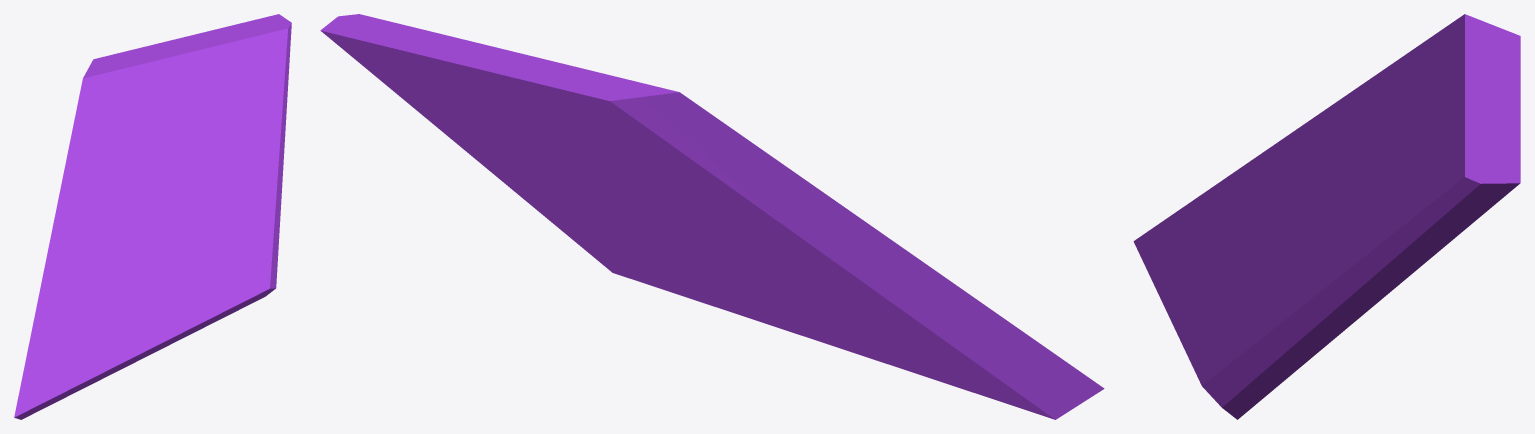
File: Window_97_0_chunks.fbx
3 views of the same model, side by side, from view 1: azimuth 30°, elevation 25°; view 2: azimuth 150°, elevation 25°; view 3: azimuth 270°, elevation 25° (orthographic). The views are drawn at different scales.
Parts seen in each view (by area): view 1: Window_97_0_0, Window_97_0_2, Window_97_0_5, Window_97_0_4, Window_97_0_6, Window_97_0_7, Window_97_0_8, Window_97_0_9; view 2: Window_97_0_0, Window_97_0_2, Window_97_0_1, Window_97_0_5, Window_97_0_7, Window_97_0_9, Window_97_0_6, Window_97_0_3; view 3: Window_97_0_0, Window_97_0_2, Window_97_0_5, Window_97_0_4, Window_97_0_9, Window_97_0_8, Window_97_0_6, Window_97_0_7.
Boxes of the visible parts, x1,y1,x2,y2 form: Window_97_0_0: [87, 14, 291, 187]; Window_97_0_2: [14, 204, 140, 419]; Window_97_0_5: [57, 70, 166, 220]; Window_97_0_4: [101, 148, 199, 327]; Window_97_0_6: [96, 193, 212, 381]; Window_97_0_7: [117, 270, 276, 371]; Window_97_0_8: [211, 222, 278, 287]; Window_97_0_9: [198, 185, 281, 253]; Window_97_0_0: [320, 14, 648, 198]; Window_97_0_2: [798, 202, 1104, 419]; Window_97_0_1: [607, 104, 797, 300]; Window_97_0_5: [647, 84, 836, 250]; Window_97_0_7: [585, 250, 883, 362]; Window_97_0_9: [504, 182, 656, 250]; Window_97_0_6: [642, 217, 921, 375]; Window_97_0_3: [787, 247, 879, 349]; Window_97_0_0: [1307, 23, 1520, 331]; Window_97_0_2: [1133, 98, 1341, 305]; Window_97_0_5: [1314, 14, 1488, 159]; Window_97_0_4: [1194, 156, 1371, 290]; Window_97_0_9: [1252, 228, 1342, 397]; Window_97_0_8: [1203, 270, 1284, 395]; Window_97_0_6: [1164, 230, 1317, 318]; Window_97_0_7: [1170, 311, 1263, 419].
Bounding box in the file's own units: 906 × 538 × 486.
